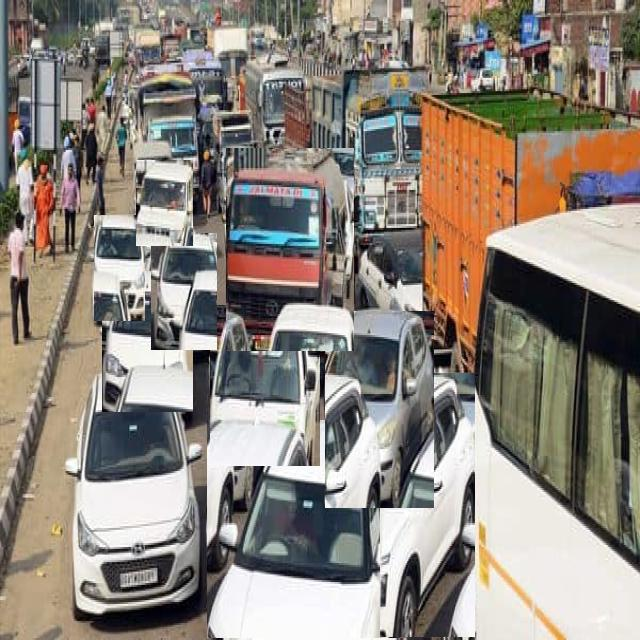car: (207, 420, 405, 638), (65, 367, 201, 618), (380, 374, 475, 637), (325, 311, 434, 508), (102, 271, 192, 412), (355, 231, 441, 356), (151, 233, 216, 350), (94, 216, 145, 321), (136, 160, 192, 246)
truck: (226, 149, 354, 351), (312, 69, 428, 235), (210, 305, 320, 466)
